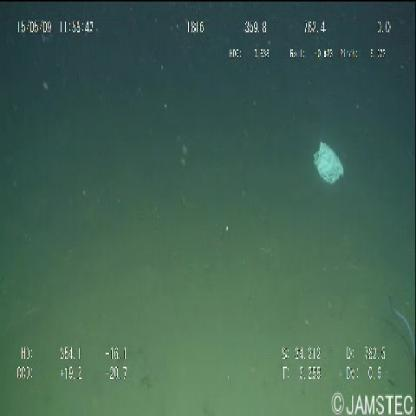Rác: (314, 142, 342, 182)
